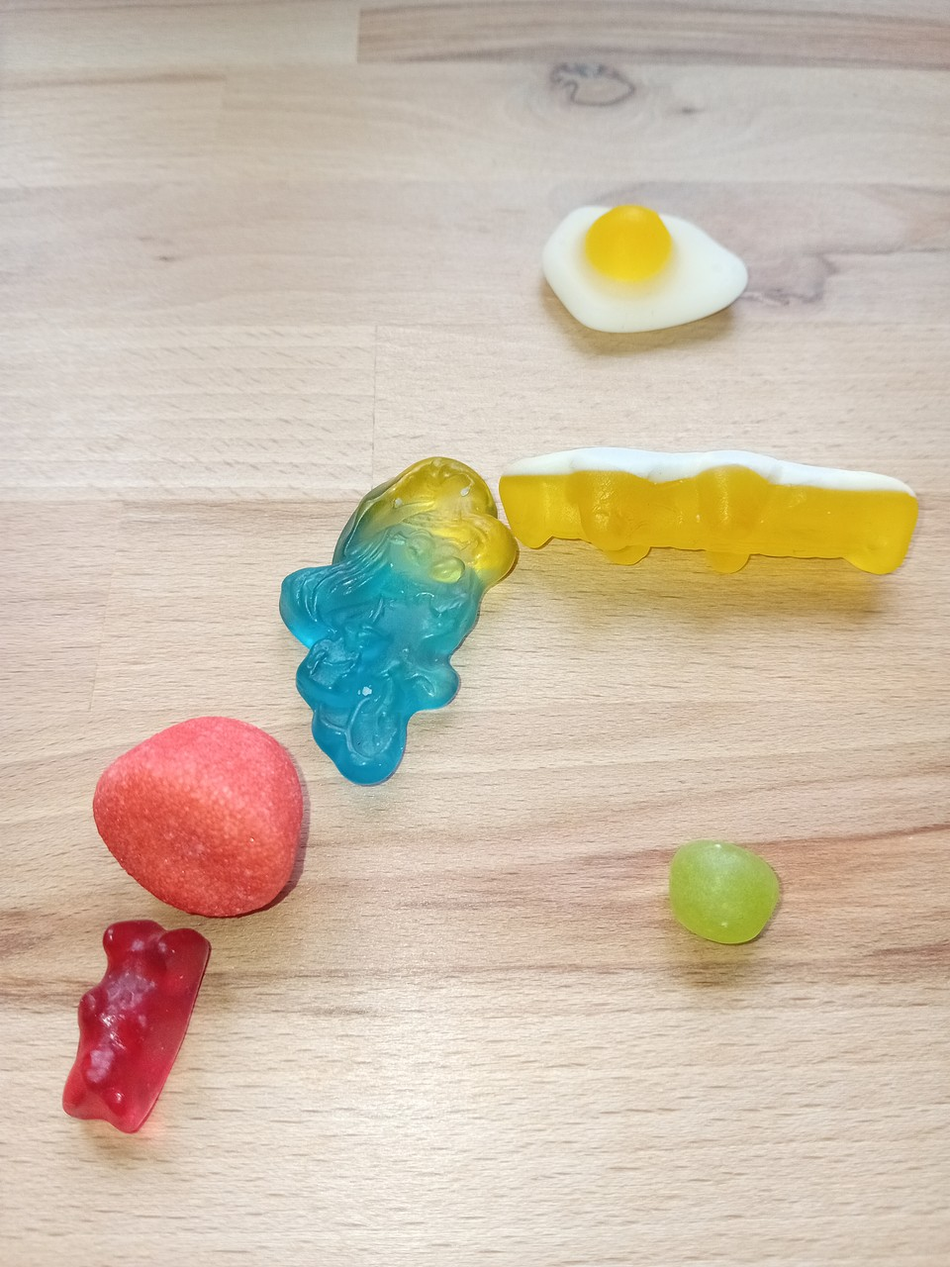crocodile_jaune: (497, 441, 927, 581)
dragibus_vert: (659, 830, 790, 948)
oeuf_oeuf: (534, 196, 756, 344)
ourson_rouge: (56, 918, 216, 1141)
schtroumpf_bleu-jaune: (275, 454, 522, 794)
tagada_fraise: (83, 713, 309, 921)
